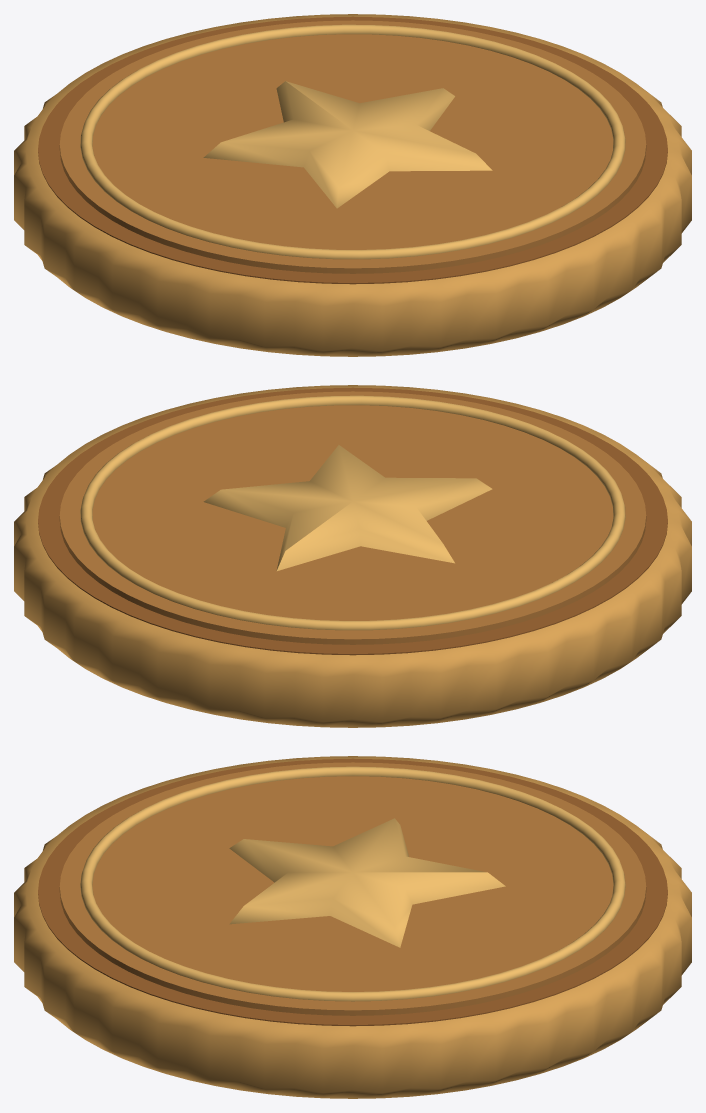
The model's file is coin.glb.
3 renders of one model, top to bottom at view 1: azimuth 30°, elevation 25°; view 2: azimuth 150°, elevation 25°; view 3: azimuth 270°, elevation 25°, orthographic.
Parts seen in each view (by area): view 1: FaceFront, ReededRim, MintMarkFront, CoinCore, BorderFront; view 2: FaceFront, ReededRim, MintMarkFront, CoinCore, BorderFront; view 3: FaceFront, ReededRim, MintMarkFront, CoinCore, BorderFront.
Part boxes in pixels (x1,y1,x2,y2): FaceFront: (59,20,646,273); ReededRim: (14,14,691,356); MintMarkFront: (203,81,492,208); CoinCore: (38,16,667,284); BorderFront: (80,24,625,259); FaceFront: (59,391,646,644); ReededRim: (14,385,691,727); MintMarkFront: (203,445,492,570); CoinCore: (38,387,667,655); BorderFront: (80,395,625,630); FaceFront: (59,762,646,1015); ReededRim: (14,756,691,1098); MintMarkFront: (229,818,505,947); CoinCore: (38,758,667,1026); BorderFront: (80,766,625,1001).
Size of the model in its own units: 0.9942 by 0.178 by 0.9942.
